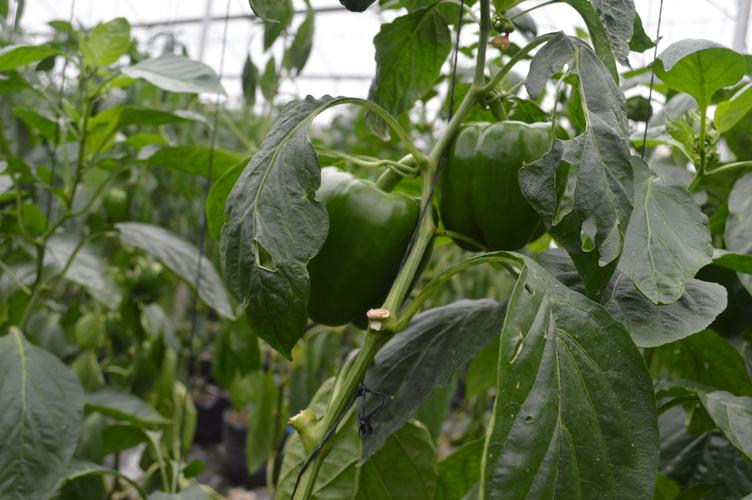BellPepper: (300, 167, 411, 314), (445, 120, 566, 249)
